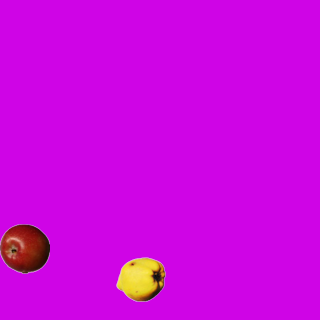Apple Braeburn: (0, 223, 49, 273)
Quince: (115, 254, 165, 304)
